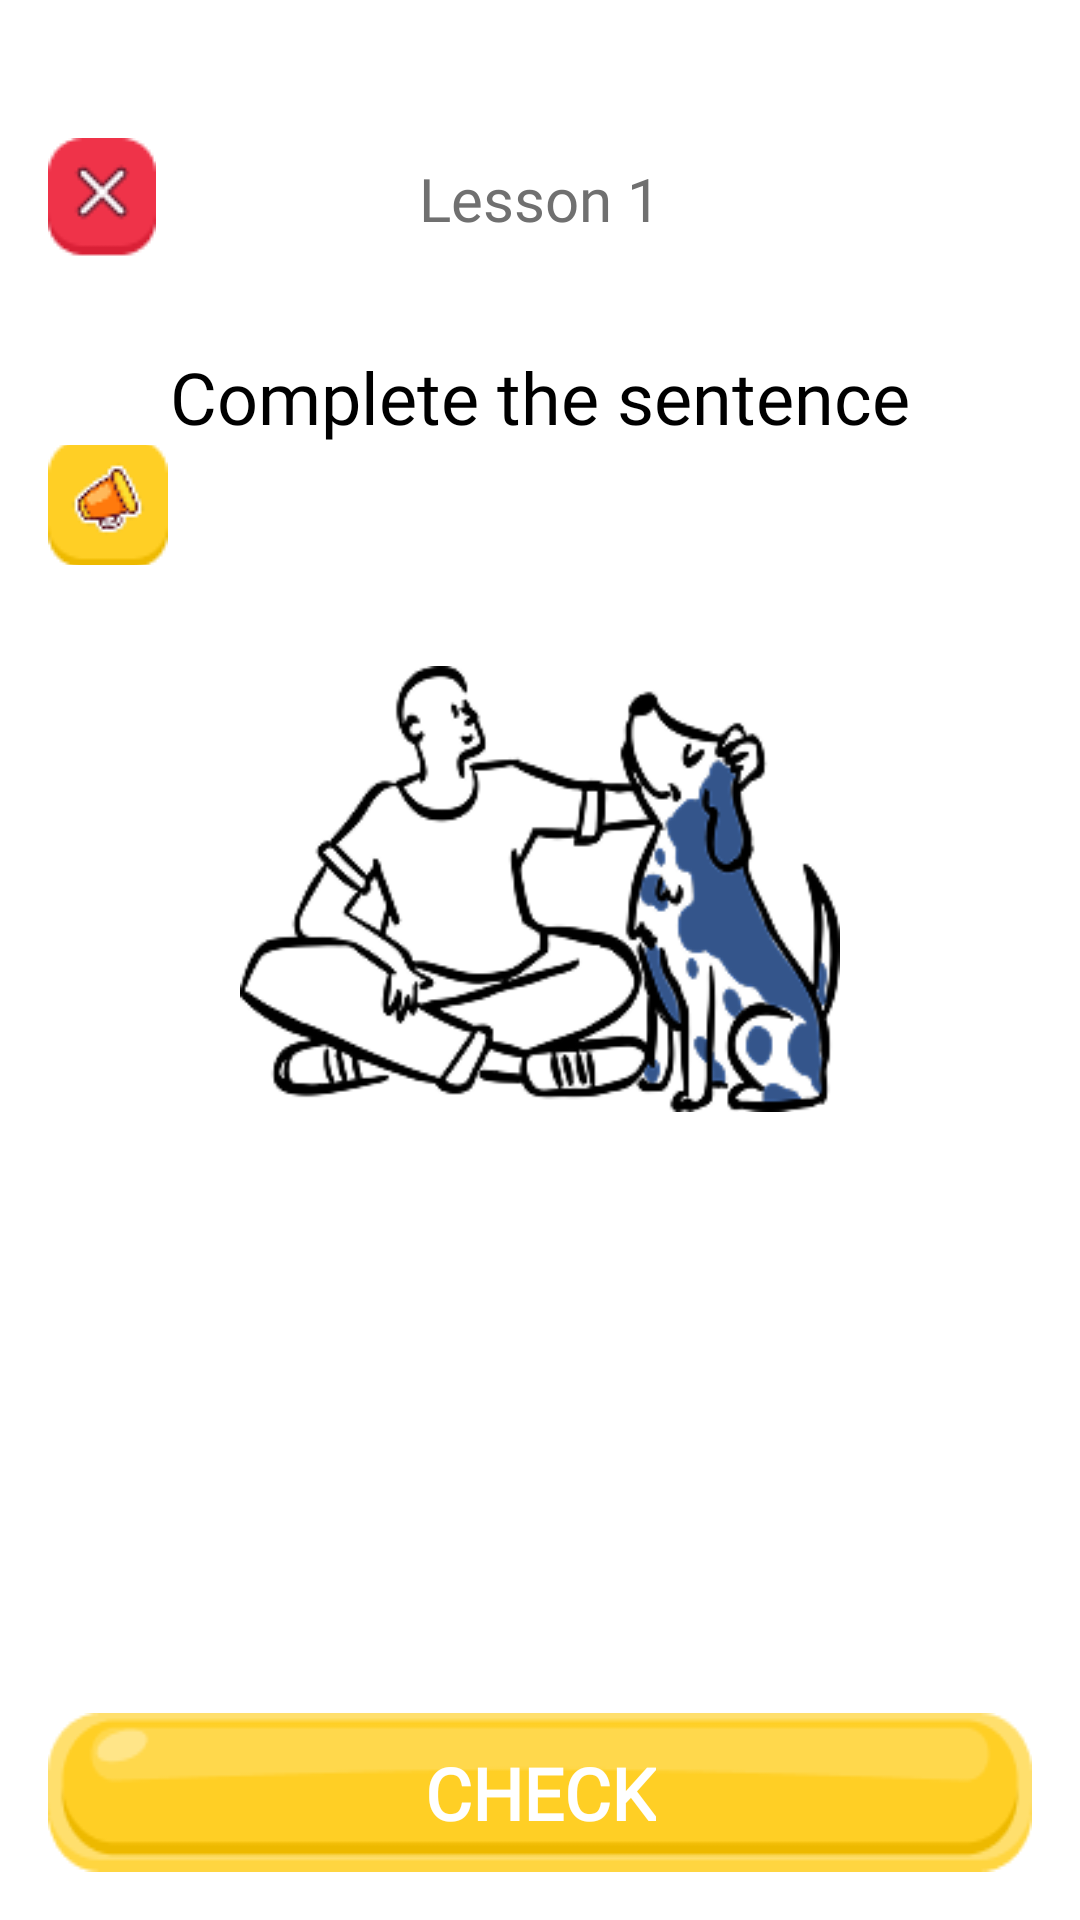

Icons on this 1080 × 1920 Android screen, each with the point to tap as (x=x, y=y):
close: (x=102, y=197)
speaker: (x=108, y=505)
